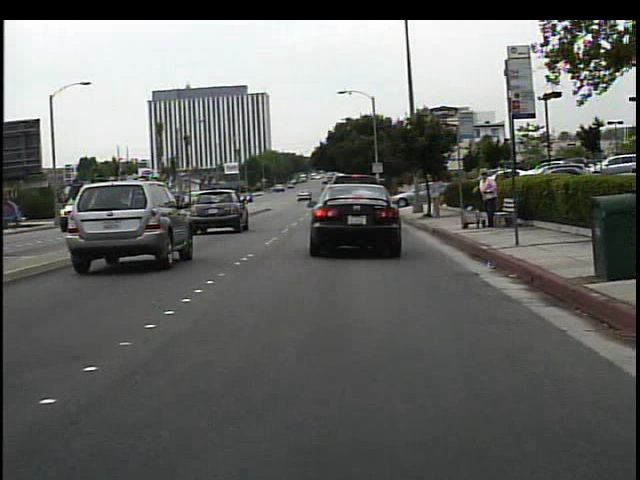person: (472, 166, 501, 229), (428, 169, 453, 219)
